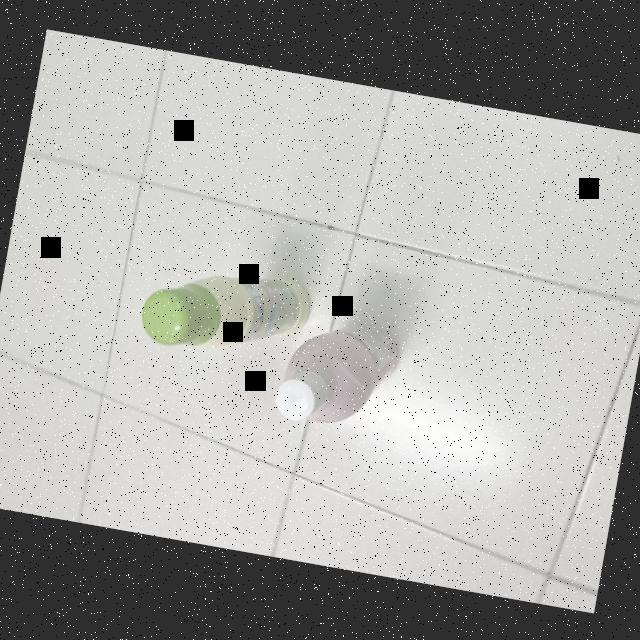chemical_plastic_bottle: (136, 246, 316, 369), (268, 300, 411, 440)
